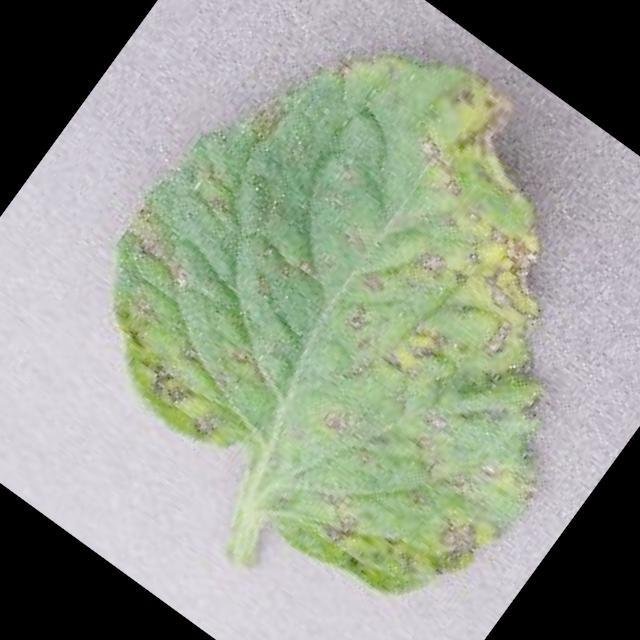Tomato Septoria spot leaf: (36, 0, 640, 640)
